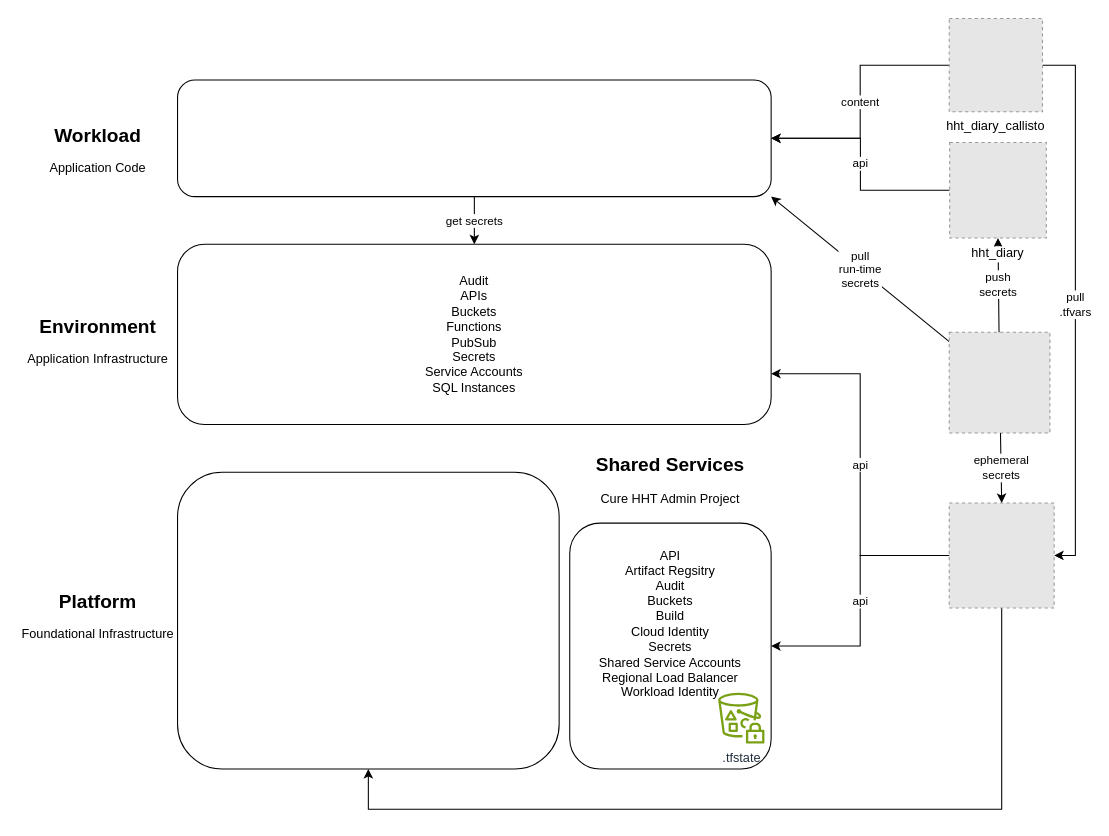
Image size: 1109x836. Some labels were removed from this diagram. Grey dashed boxes stand in for pictures. The centre of each missing label's shape, as x and y in pixels:
"Audit APIs Buckets Budgets DNS Firewall IAM Projects Subnets VPCs" goes at (x=367, y=620).
"Images Run Containers PostgreSQL Schema & Data" goes at (x=473, y=138).
